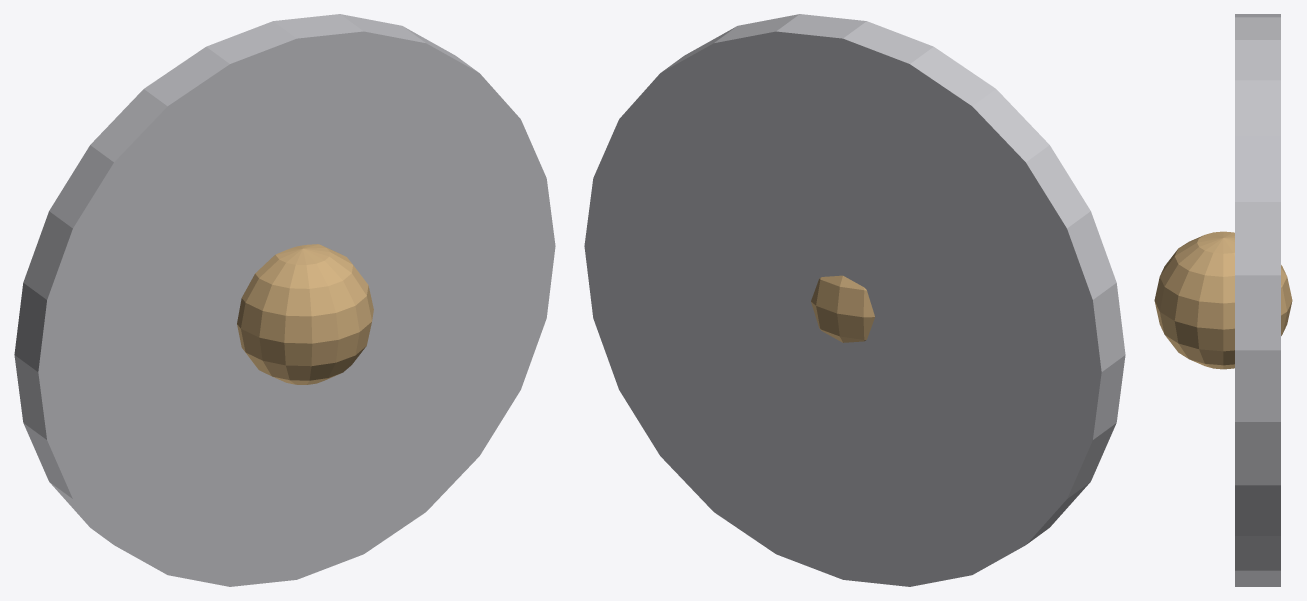
The model's file is _smoke_shield.glb.
3 views of the same model, side by side, from view 1: azimuth 30°, elevation 25°; view 2: azimuth 150°, elevation 25°; view 3: azimuth 270°, elevation 25° (orthographic). The views are drawn at different scales.
Visible parts, largest first — view 1: Shield, ShieldBoss; view 2: Shield, ShieldBoss; view 3: Shield, ShieldBoss.
Boxes of the visible parts, box(x1,y1,x2,y2) form: Shield: box(14, 14, 555, 586); ShieldBoss: box(237, 244, 373, 384); Shield: box(584, 14, 1125, 586); ShieldBoss: box(811, 275, 874, 342); Shield: box(1235, 14, 1280, 586); ShieldBoss: box(1154, 231, 1292, 369).
Bounding box in the file's own units: 1 × 1 × 0.24.
